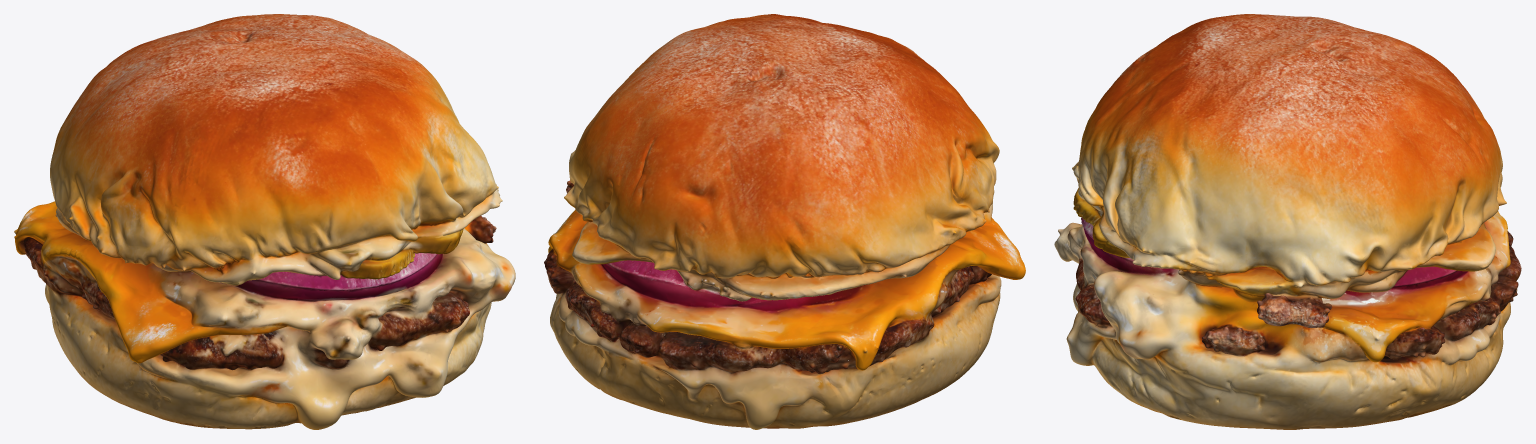
The model's file is hamburger-hd-v1.glb.
3 views of the same model, side by side, from view 1: azimuth 30°, elevation 25°; view 2: azimuth 150°, elevation 25°; view 3: azimuth 270°, elevation 25° (orthographic). The views are drawn at different scales.
Visible parts, largest first — view 1: tripo_node_8f36e6b8-2a88-42c7-9dfe-70038900a76f; view 2: tripo_node_8f36e6b8-2a88-42c7-9dfe-70038900a76f; view 3: tripo_node_8f36e6b8-2a88-42c7-9dfe-70038900a76f.
Boxes of the visible parts, <box> form: tripo_node_8f36e6b8-2a88-42c7-9dfe-70038900a76f: <box>14,14,515,429</box>; tripo_node_8f36e6b8-2a88-42c7-9dfe-70038900a76f: <box>544,14,1025,429</box>; tripo_node_8f36e6b8-2a88-42c7-9dfe-70038900a76f: <box>1054,14,1521,429</box>.
Bounding box in the file's own units: 0.9686 × 0.707 × 0.9801.
Materials: 1 (1 with a texture image).
